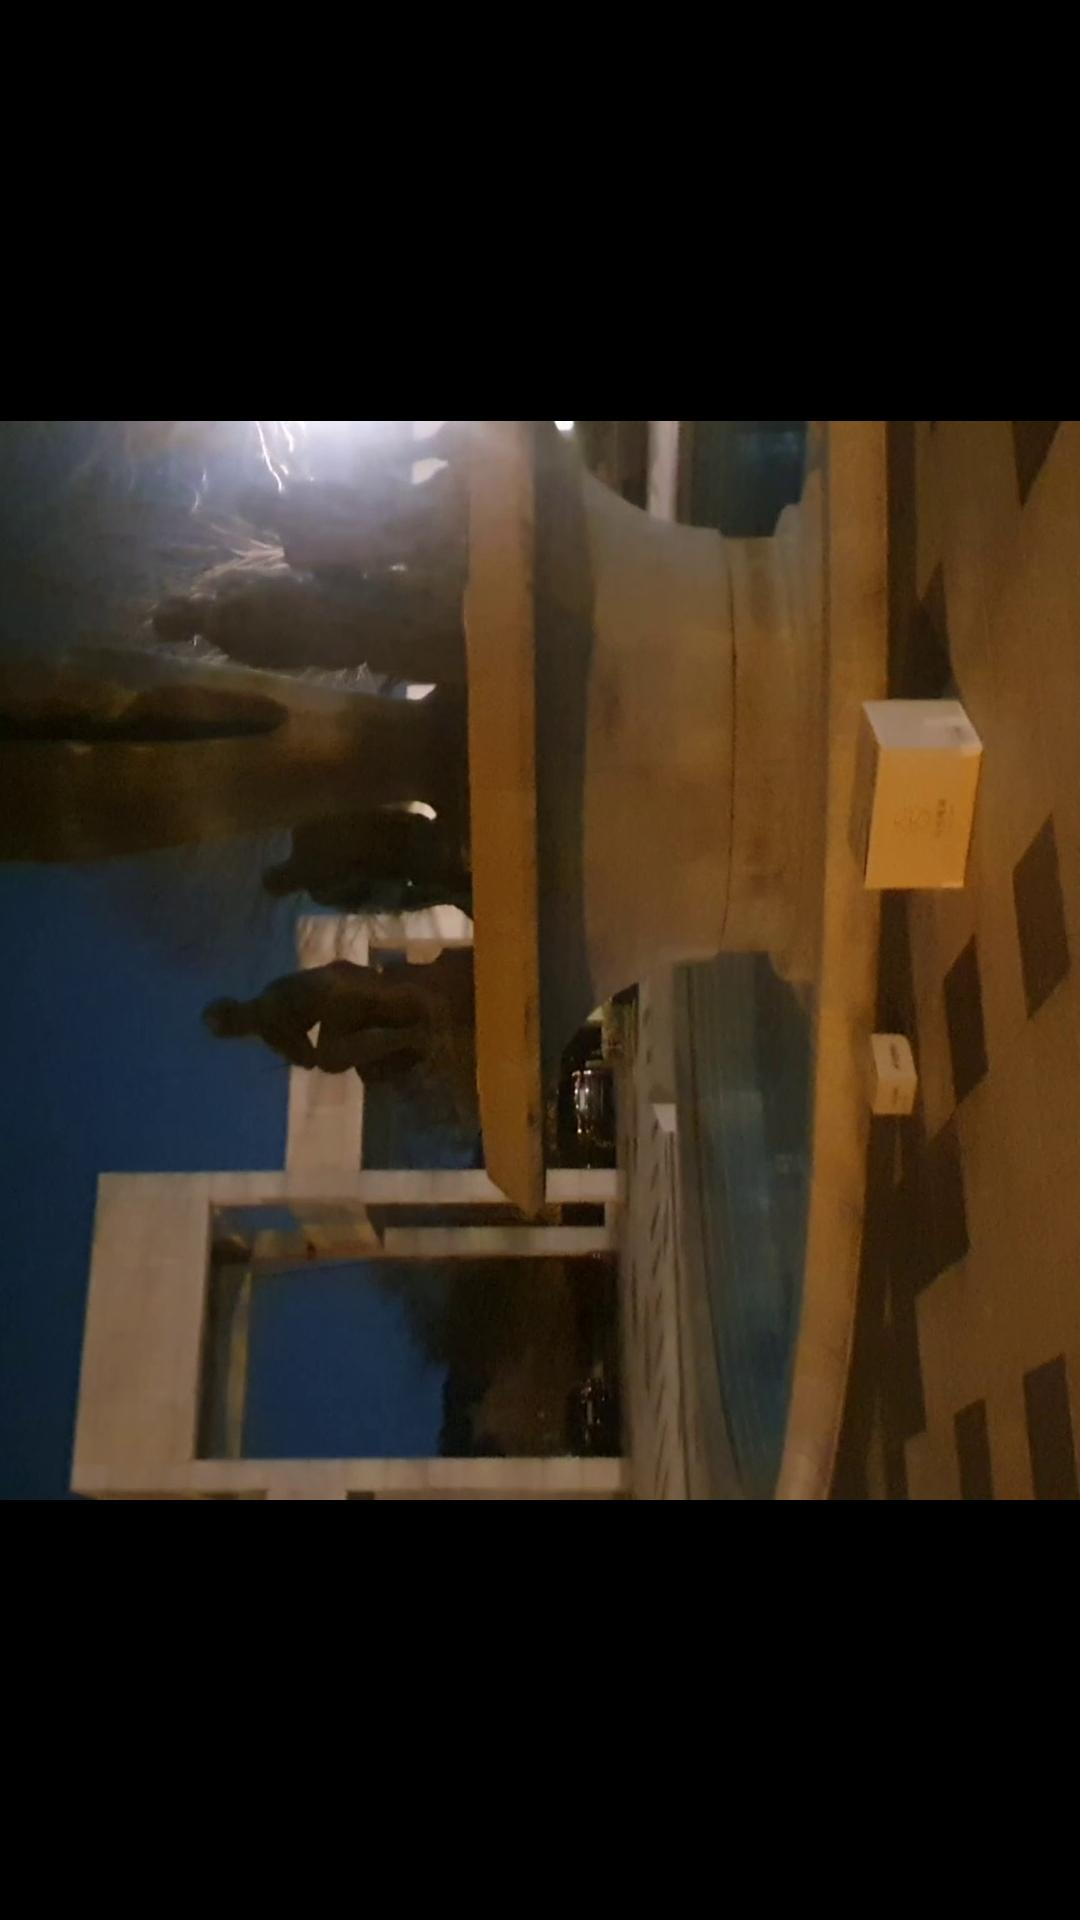Box: (853, 694, 980, 894), (853, 1029, 924, 1117)
